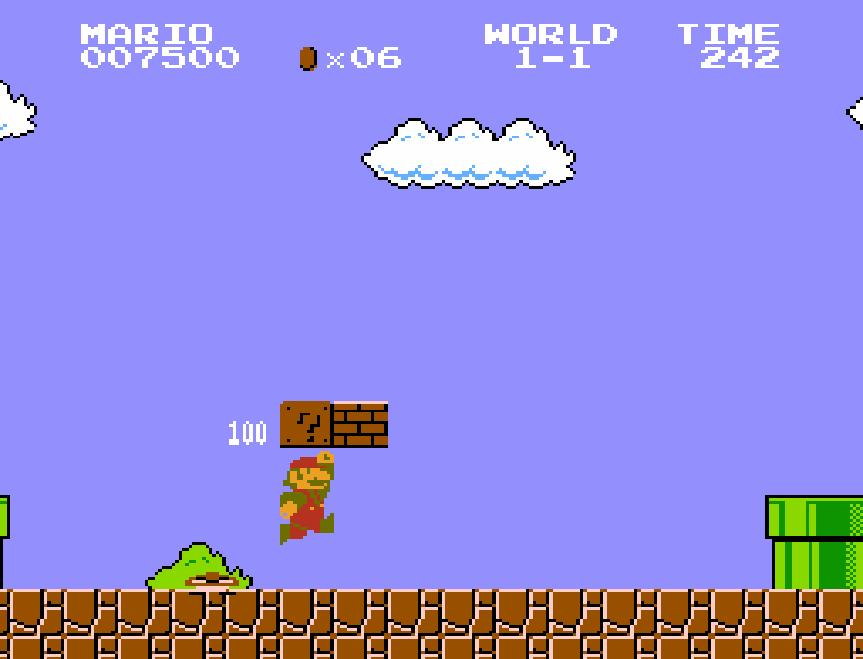big_mario: (278, 449, 336, 547)
